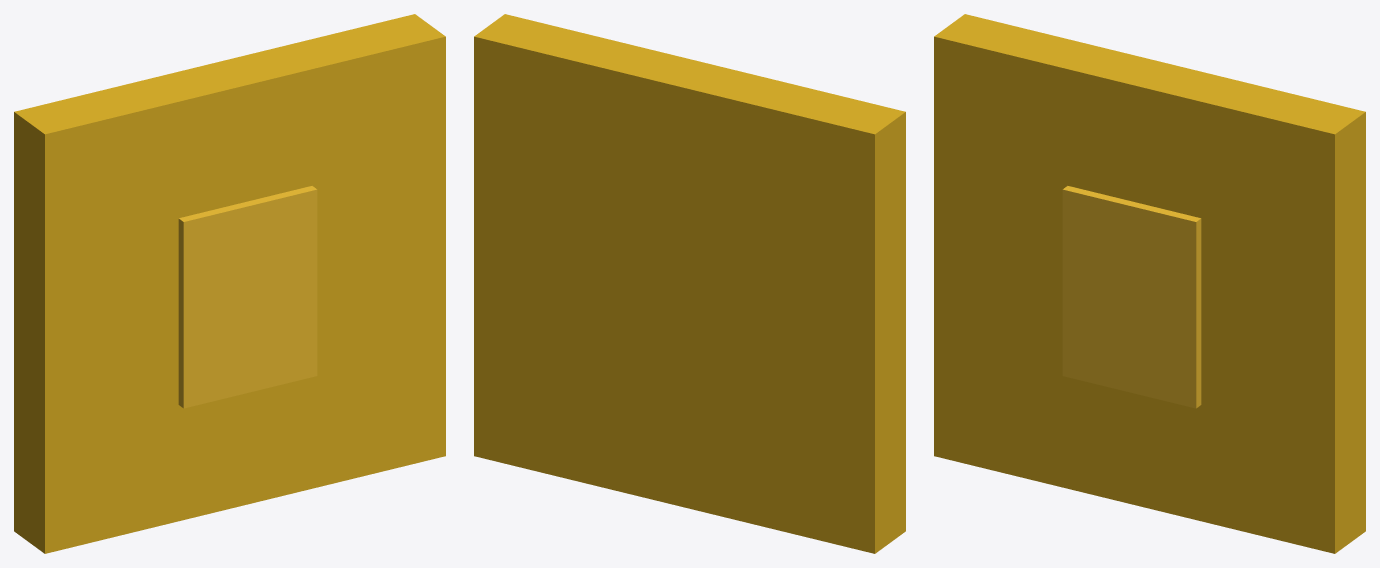
File: coin.glb
3 views of the same model, side by side, from view 1: azimuth 30°, elevation 25°; view 2: azimuth 150°, elevation 25°; view 3: azimuth 330°, elevation 25° (orthographic).
Parts seen in each view (by area): view 1: coin; view 2: coin; view 3: coin.
Boxes of the visible parts, x1=… form: coin: x1=14, y1=14, x2=445, y2=553; coin: x1=474, y1=14, x2=905, y2=553; coin: x1=934, y1=14, x2=1365, y2=553.
Bounding box in the file's own units: 0.09 × 0.09 × 0.014.
Materials: 1 (1 with a texture image).
